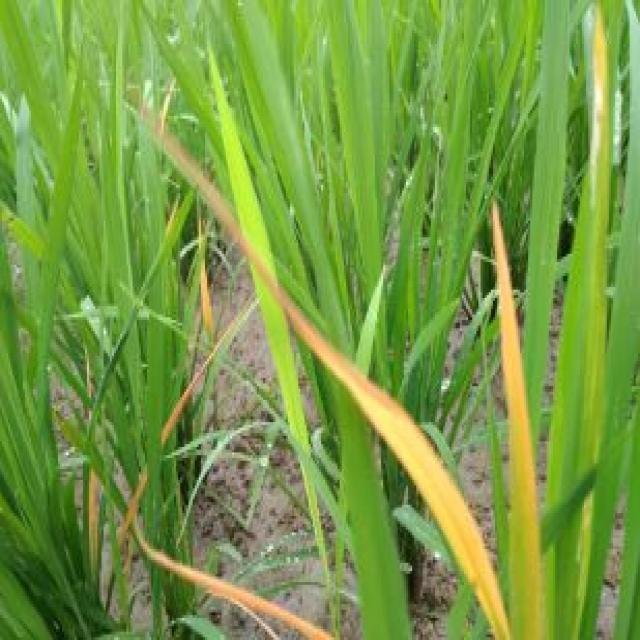Rice Tungro: (481, 197, 553, 640)
